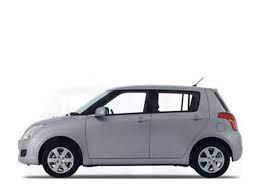Hatchback: (16, 84, 244, 180)
